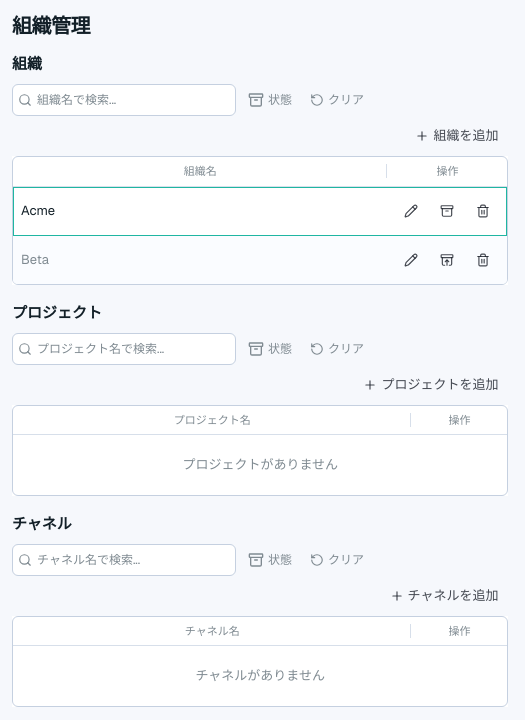
OrganizationsScreen › 検索で 0 件の時は「見つかりませんでした」を出す（未登録と言い切らない）
The width and height of the screenshot is (525, 720).
In the search field labelled "組織名で検索...": (124, 100) [12, 84, 236, 116], type "zzz"
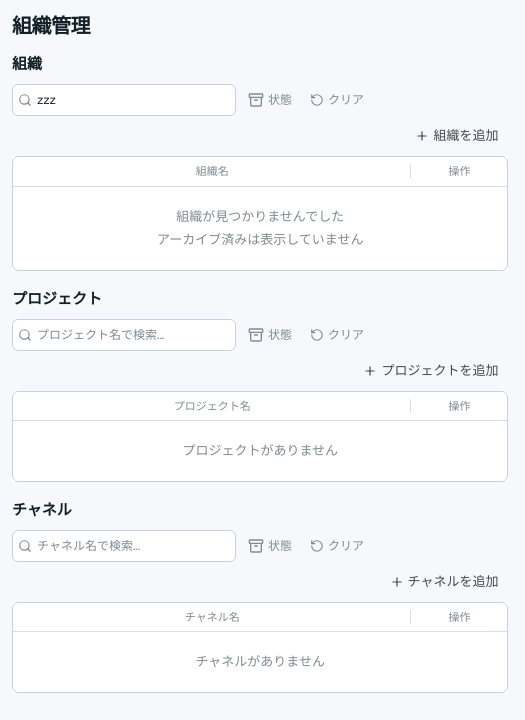
Expected: the text "組織が見つかりませんでした" is shown, [176, 208, 344, 224]
Expected: the text "アーカイブ済みは表示していません" is shown, [157, 231, 364, 248]
